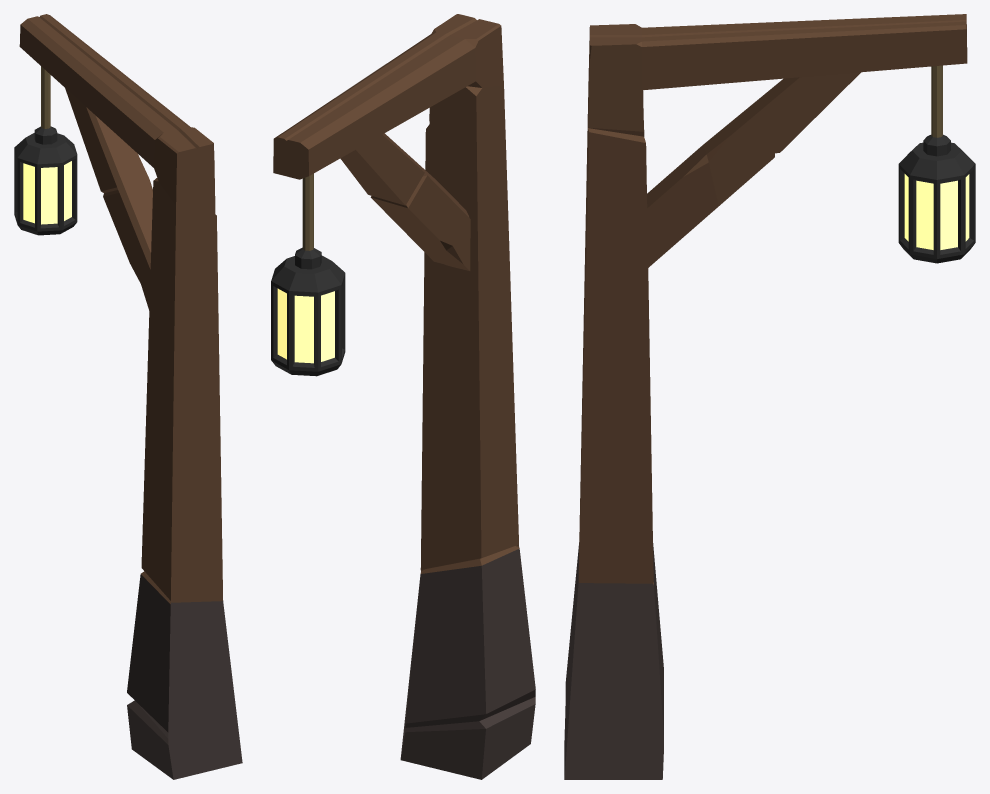
The model's file is lamppost.fbx.
3 views of the same model, side by side, from view 1: azimuth 30°, elevation 25°; view 2: azimuth 150°, elevation 25°; view 3: azimuth 270°, elevation 25° (orthographic). The views are drawn at different scales.
Visible parts, largest first — view 1: Cube.013; view 2: Cube.013; view 3: Cube.013.
Part boxes in pixels (box(x1,y1,x2,y2)): Cube.013: box(14, 14, 242, 779); Cube.013: box(271, 14, 535, 779); Cube.013: box(564, 14, 975, 779).
Size of the model in its own units: 9.56 by 77.99 by 39.22.
